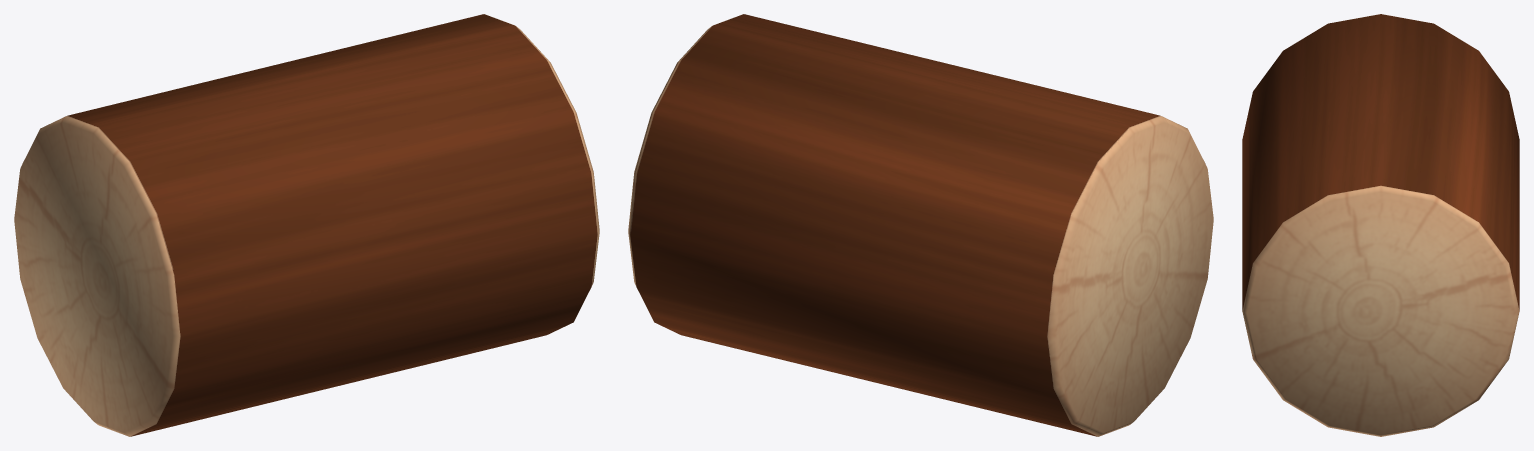
File: Log.FBX
3 renders of one model, left to right at view 1: azimuth 30°, elevation 25°; view 2: azimuth 150°, elevation 25°; view 3: azimuth 270°, elevation 25°, orthographic. The views are drawn at different scales.
Parts seen in each view (by area): view 1: Log; view 2: Log; view 3: Log.
Part boxes in pixels (x1,y1,x2,y2): Log: [14, 14, 599, 436]; Log: [628, 14, 1213, 436]; Log: [1242, 14, 1519, 436].
Size of the model in its own units: 85.54 by 57.03 by 57.03.
